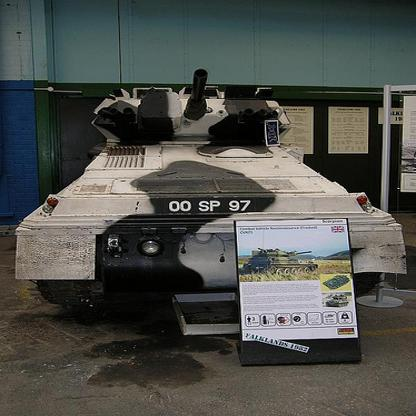Tank: (13, 67, 416, 336)
